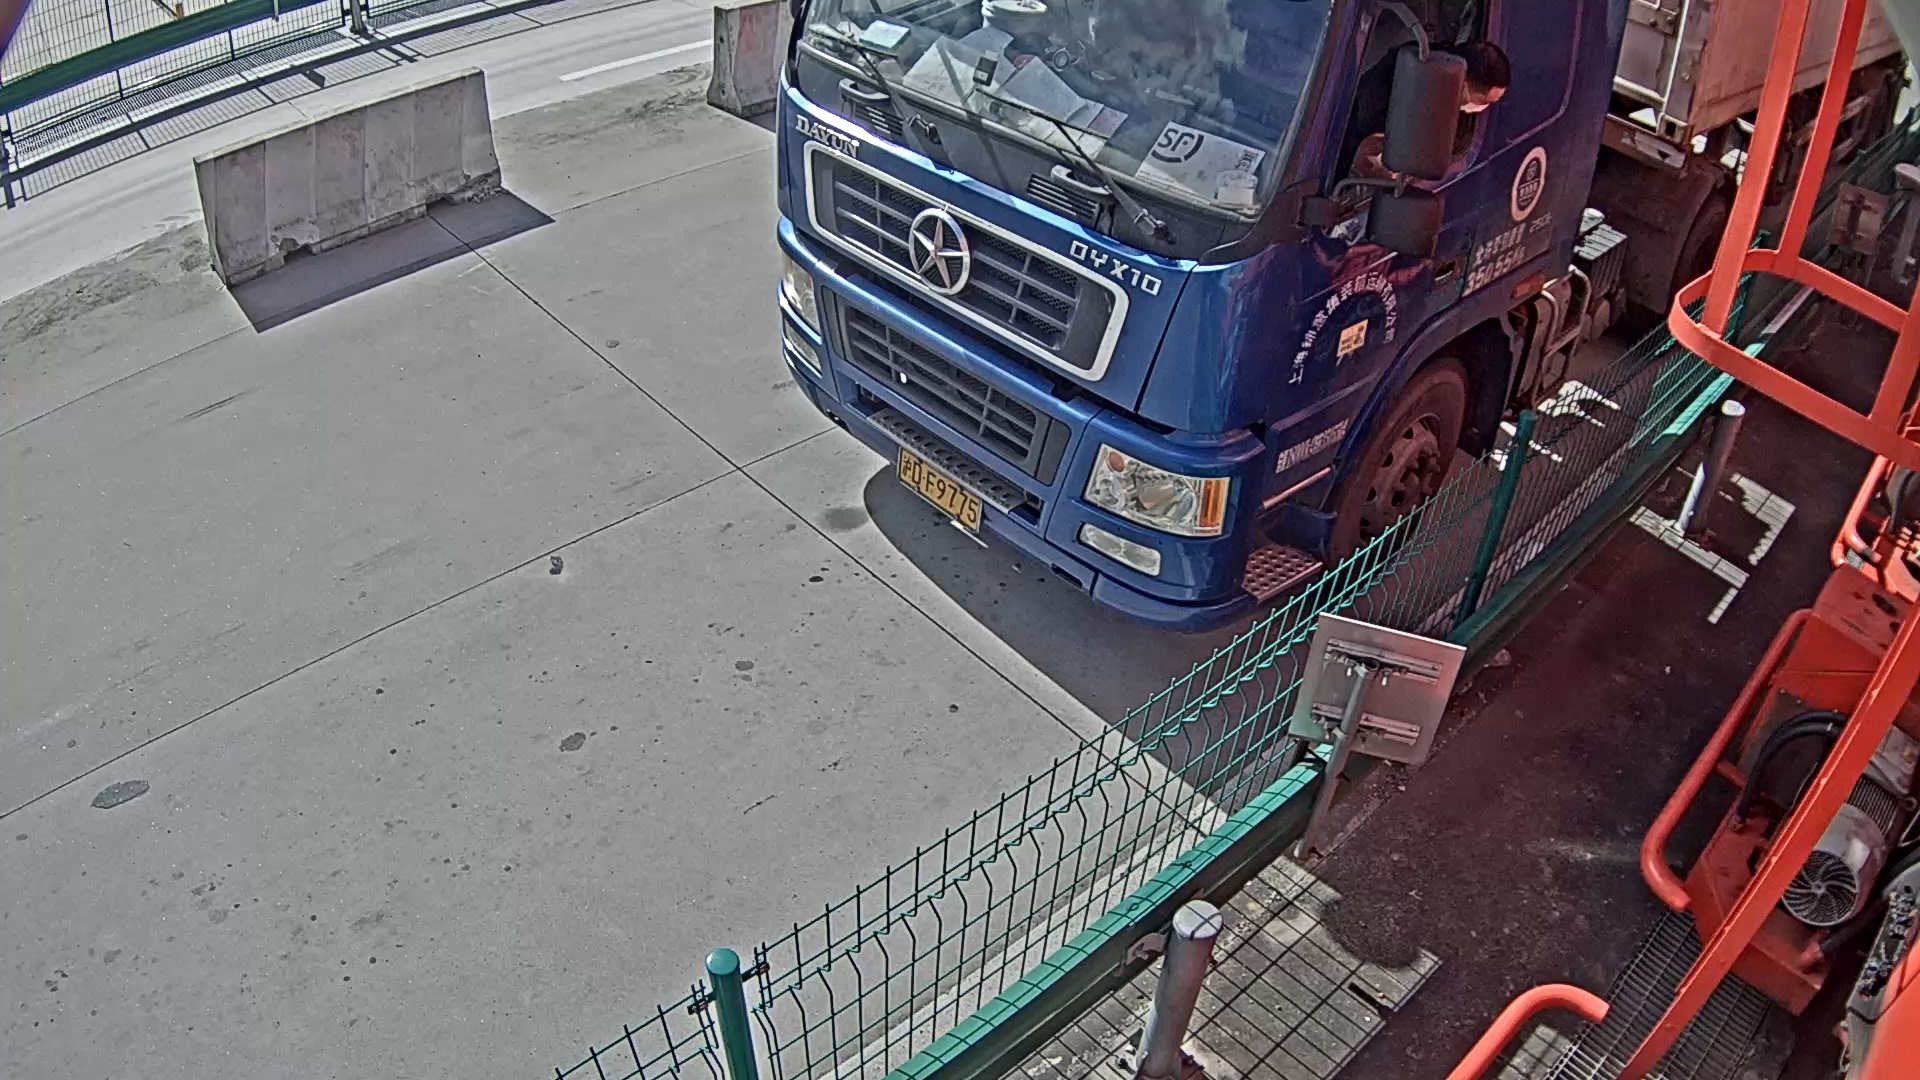head: (773, 1, 1618, 600)
plate: (896, 449, 986, 544)
